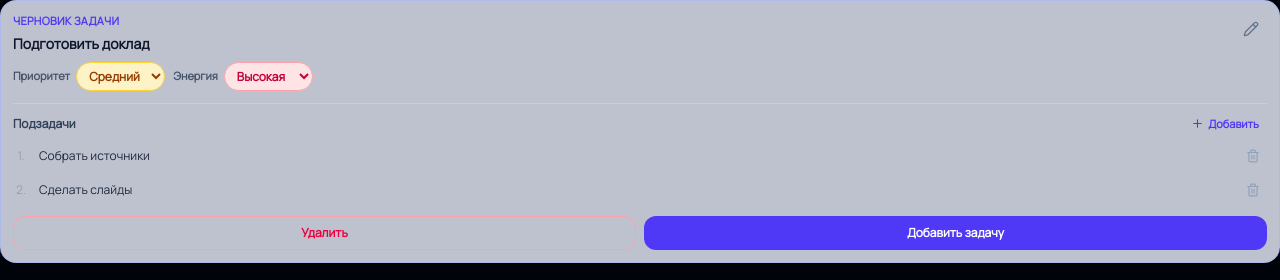
Test: MindHubDraftCard › blocks repeated confirmation while a save is pending
Later steps or results of the test are not shown.
Click the button "Добавить задачу": (956, 233) [644, 216, 1267, 250]
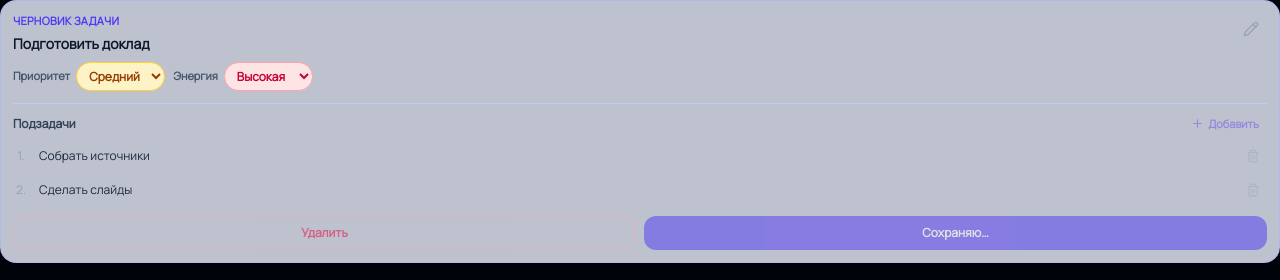
Click the button named "Добавить задачу": (956, 233) [644, 216, 1267, 250]
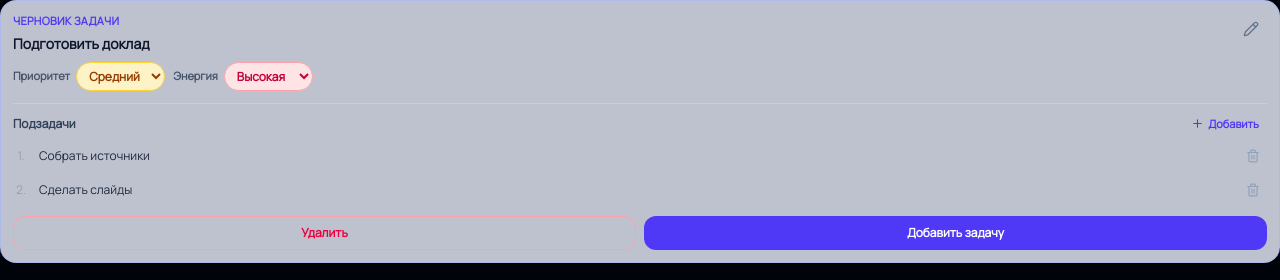
expect the button "Добавить задачу" is enabled: met, box [644, 216, 1267, 250]
